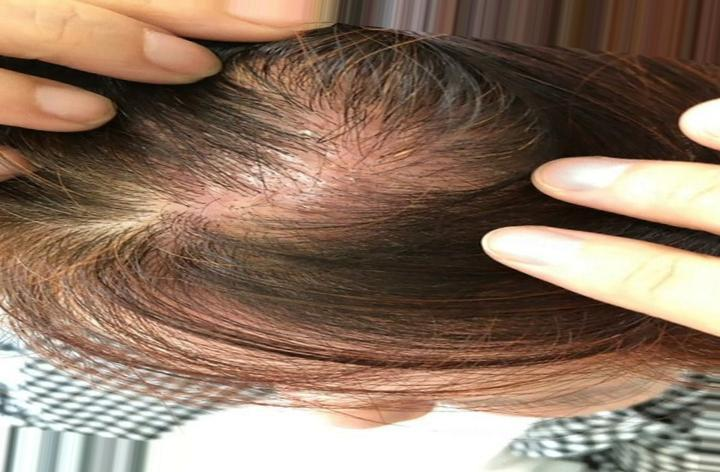Contact Dermatitis: (223, 80, 451, 279)
